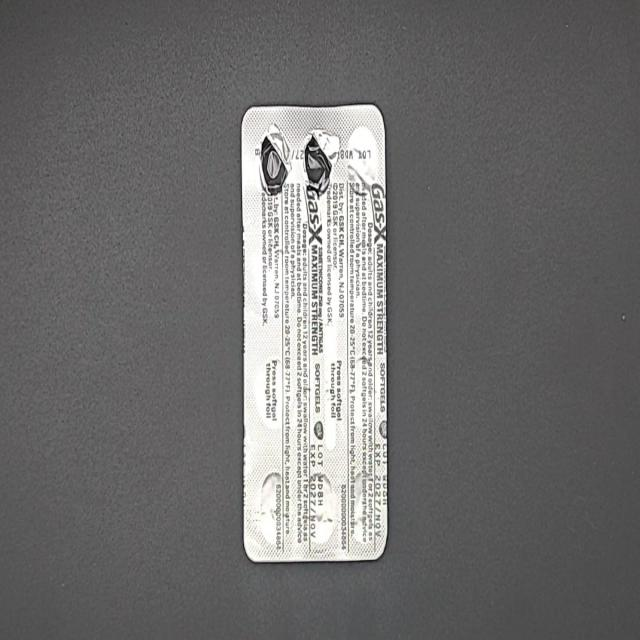defect: (300, 124, 342, 198), (257, 122, 293, 199)
